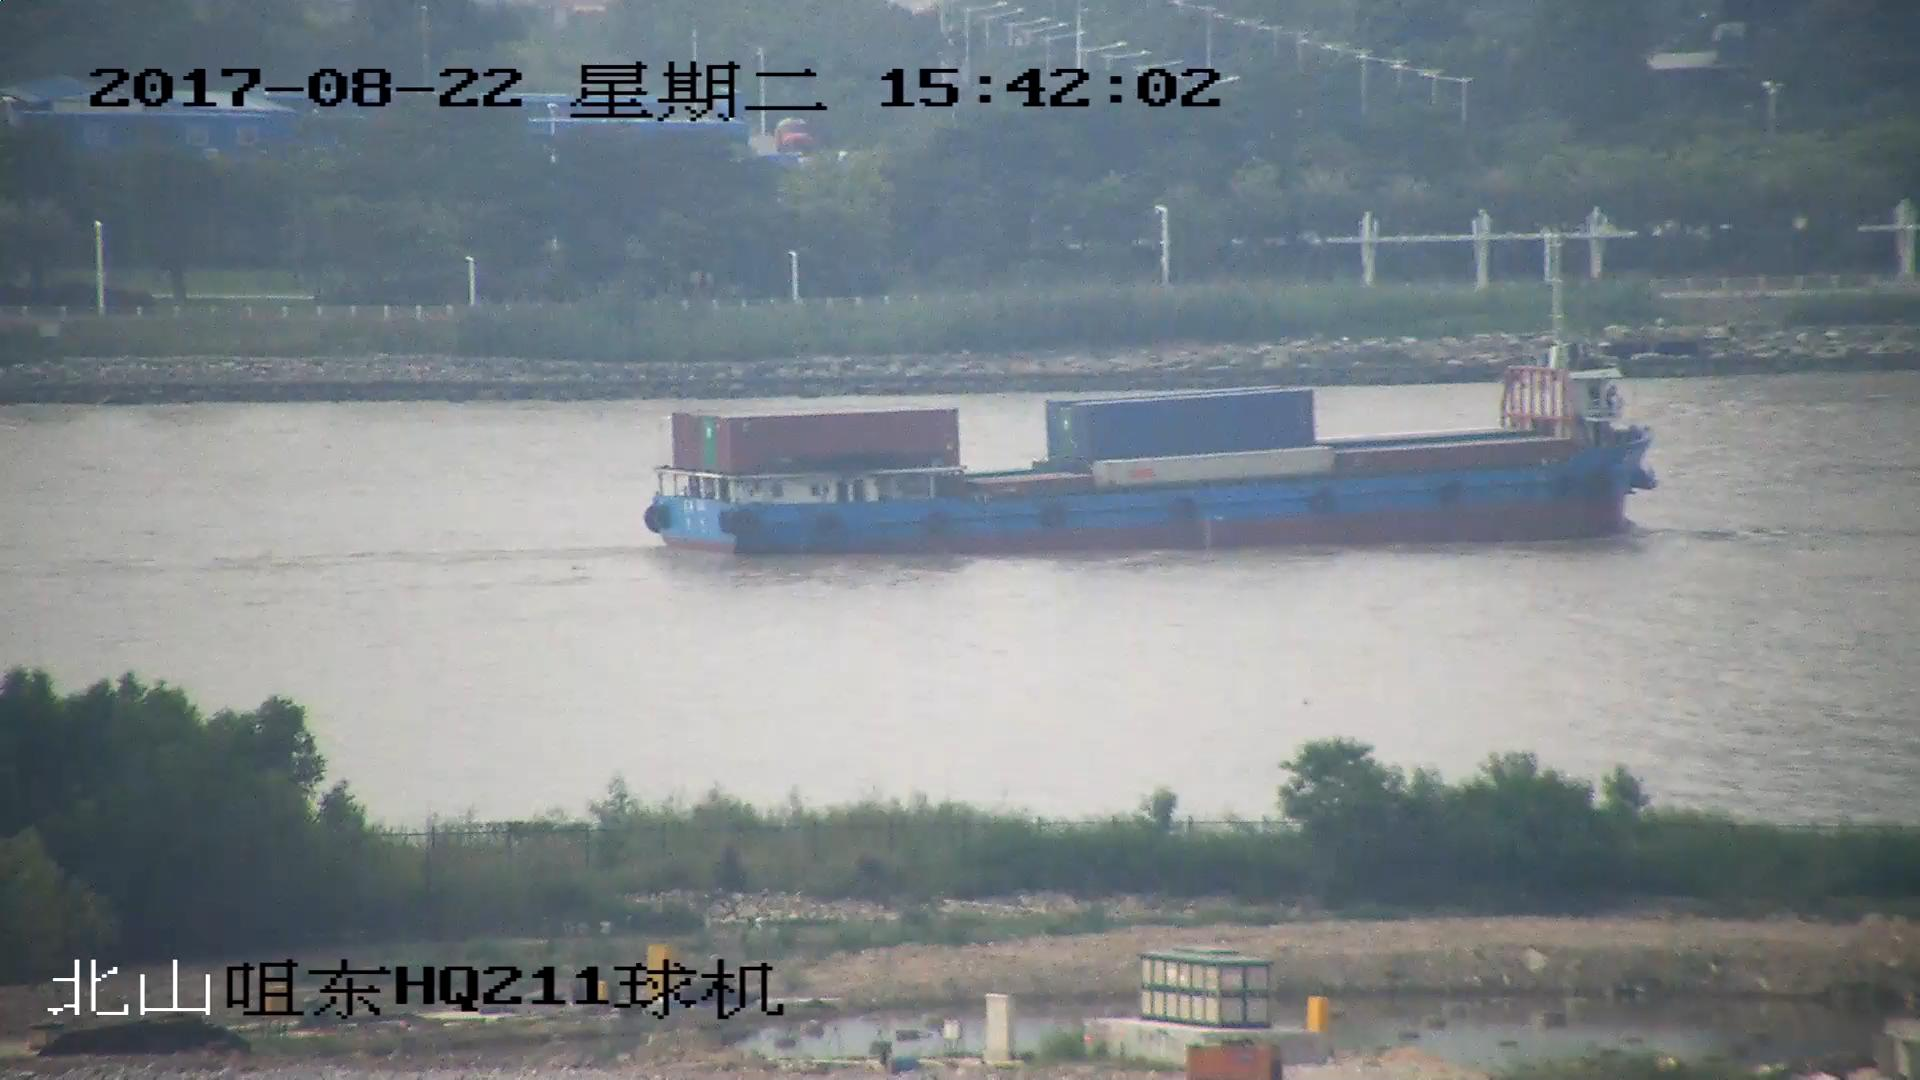container ship: (641, 314, 1662, 555)
